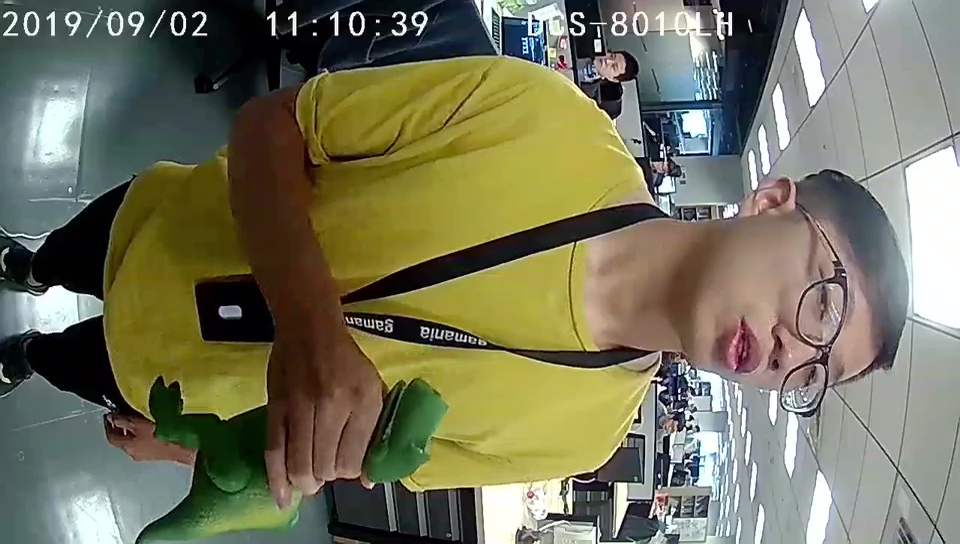rex: (179, 378, 447, 535)
